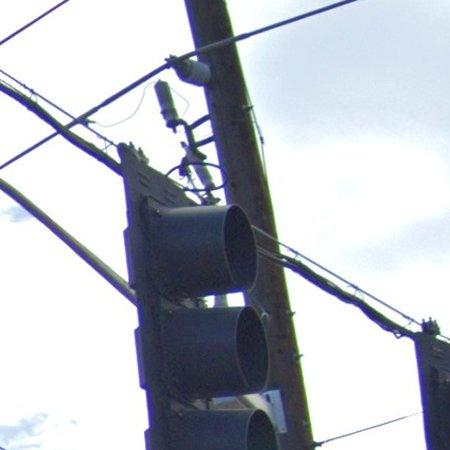traffic lights: (118, 144, 278, 450)
